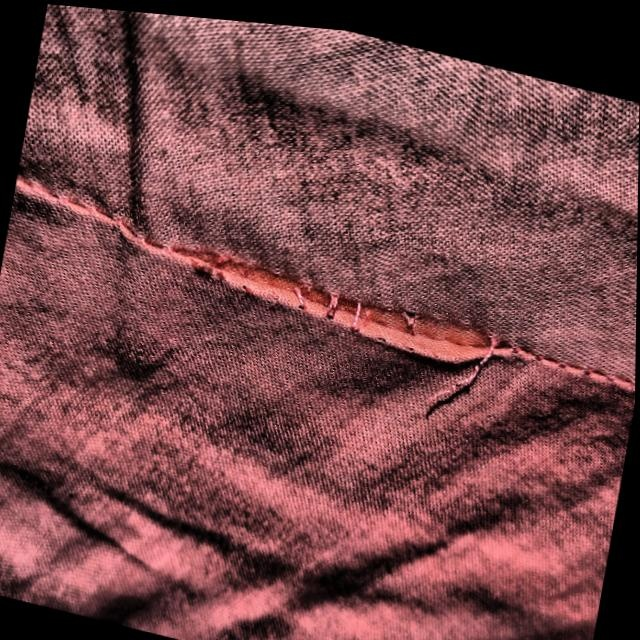seam: (106, 164, 601, 473)
